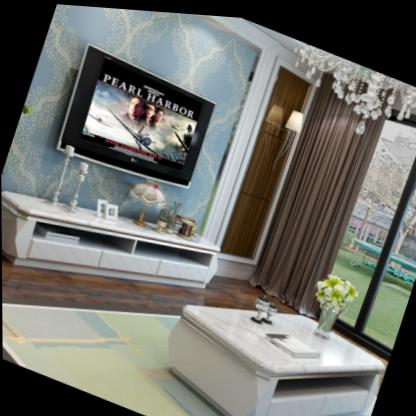Curtains: (247, 67, 382, 312)
TV stand: (1, 192, 220, 287)
Wooden floor: (2, 258, 260, 315)
